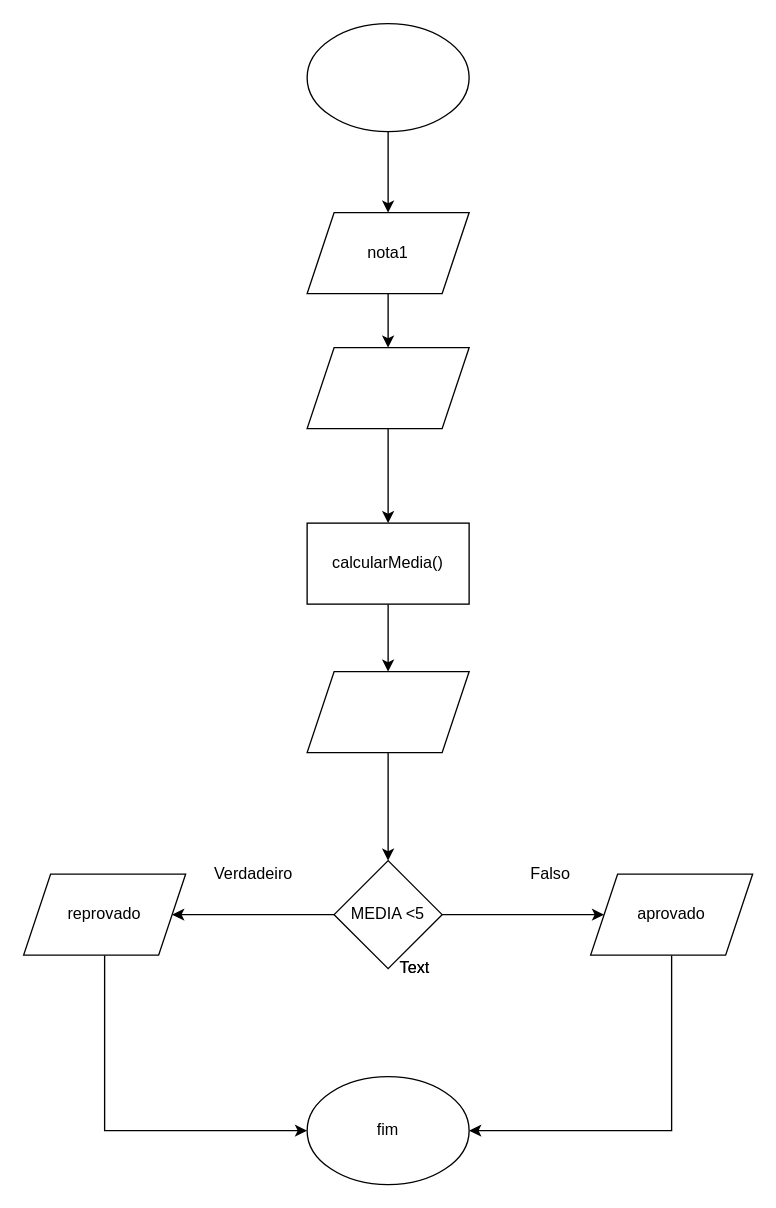
Image size: 776x1208. Some labels were removed from this diagram. The shapes that lost their labels are listed below. From the top down, each one's centre as x and y in pixels, then its label:
At pixel 387 77: "início".
At pixel 387 387: "nota2".
At pixel 387 711: "media".
